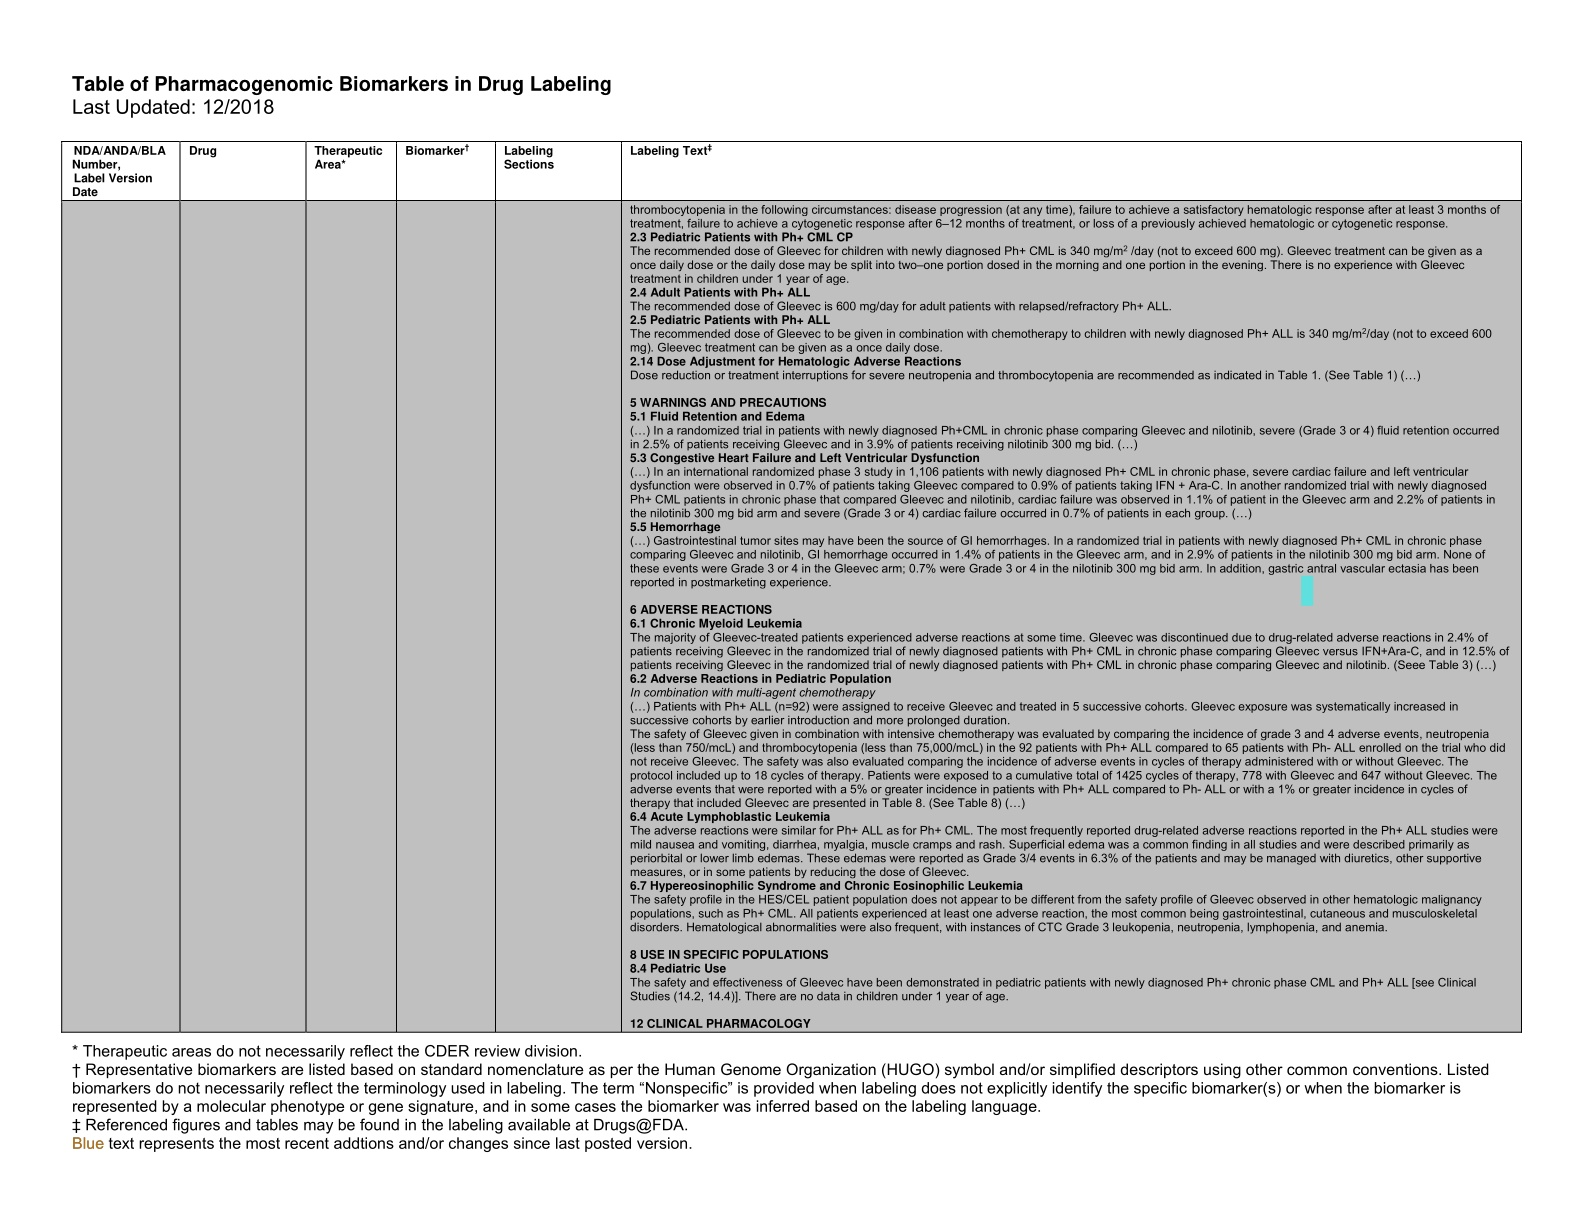full_lined: (60, 141, 1522, 1032)
